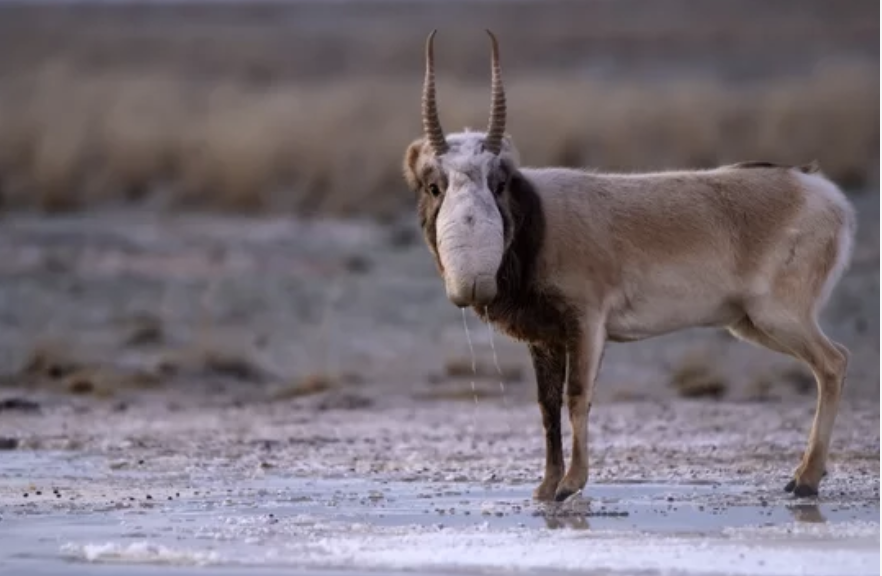saiga: (384, 15, 861, 539)
